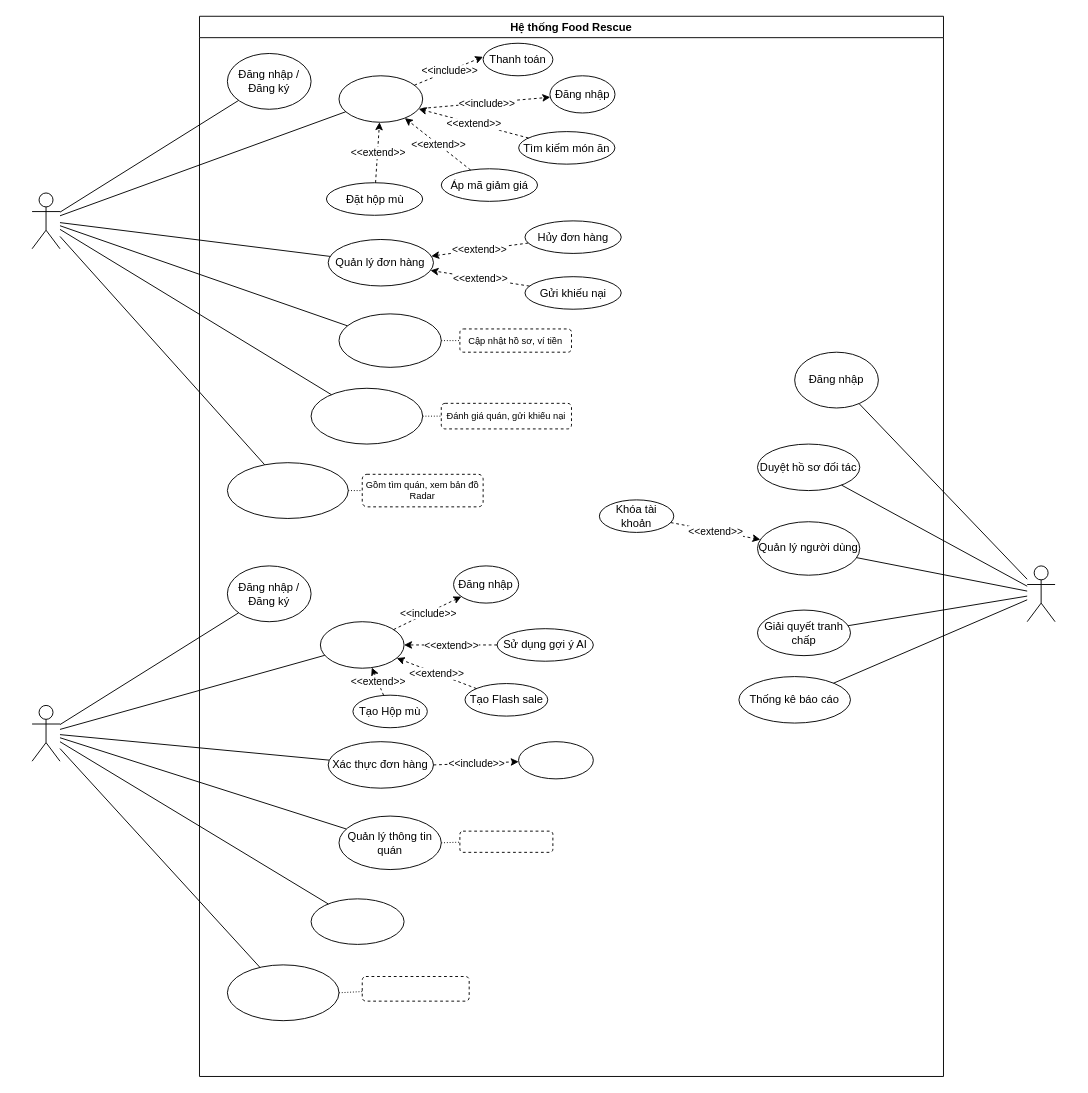
The diagram is 1088 pixels wide and 1093 high, and some of its shapes have lost their labels. Here are the shapes that lost their labels. From the top down, the centre of each, then its label:
At point 380,98: "Đặt món".
At point 45,220: "Khách hàng".
At point 389,340: "Quản lý tài khoản".
At point 366,415: "Đánh giá & Phản hồi".
At point 287,490: "Tìm kiếm & Săn thực phẩm".
At point 1040,593: "Quản trị viên".
At point 361,644: "Đăng bán món".
At point 45,732: "Đối tác".
At point 555,760: "Quét mã QR".
At point 506,841: "Giờ mở cửa, địa chỉ".
At point 357,921: "Quản lý kho".
At point 282,992: "Quản lý doanh thu".
At point 415,988: "Xem báo cáo, rút tiền".
